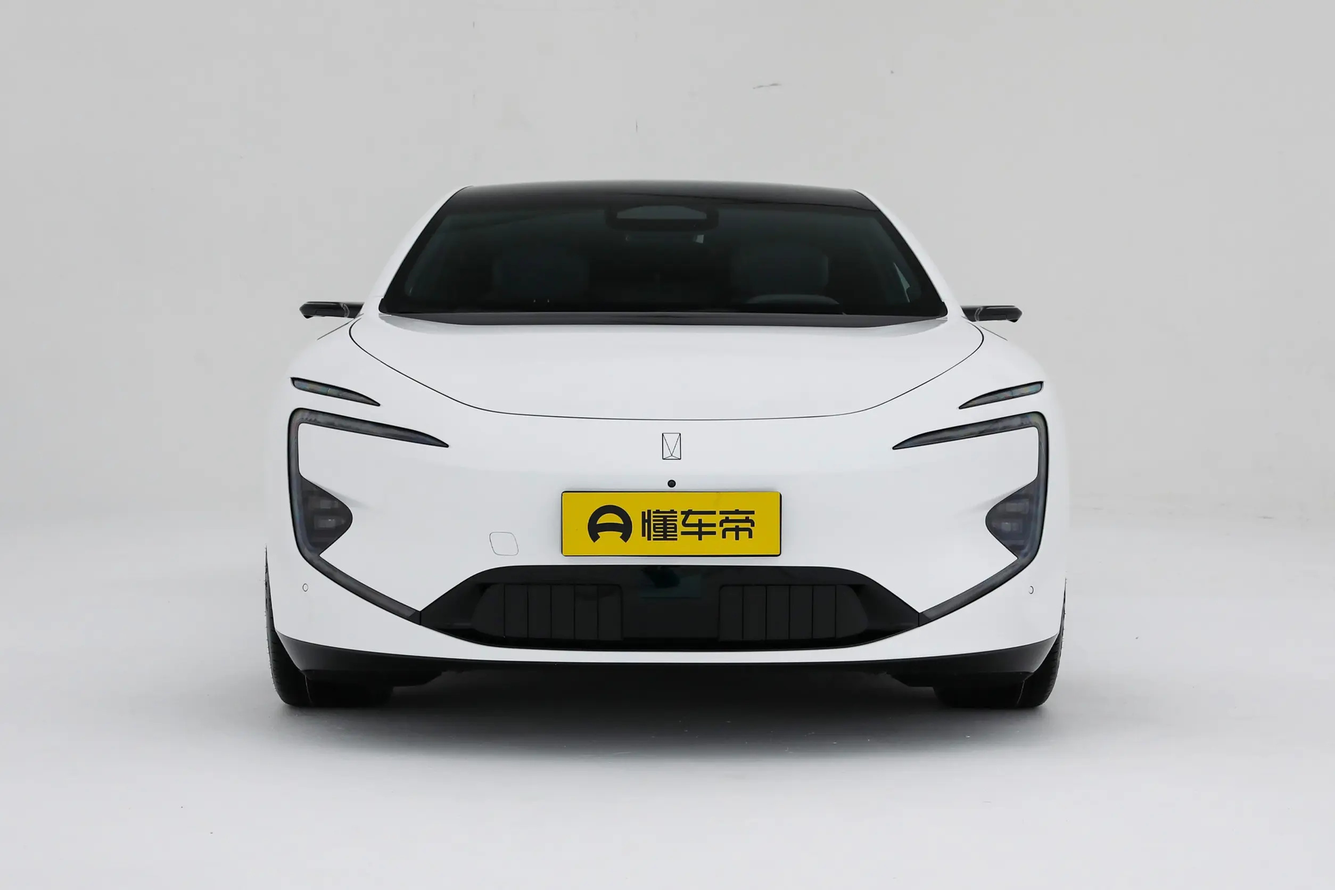AVATR: (662, 433, 681, 460)
